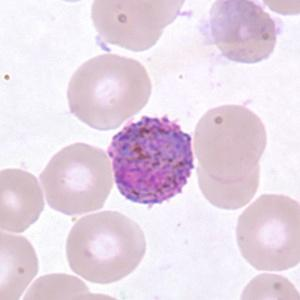Infected: (107, 116, 193, 204)
Uninfected: (67, 50, 153, 131), (69, 213, 148, 284), (41, 138, 112, 216), (236, 193, 300, 271), (193, 106, 266, 174), (209, 0, 275, 64), (195, 158, 258, 209)
